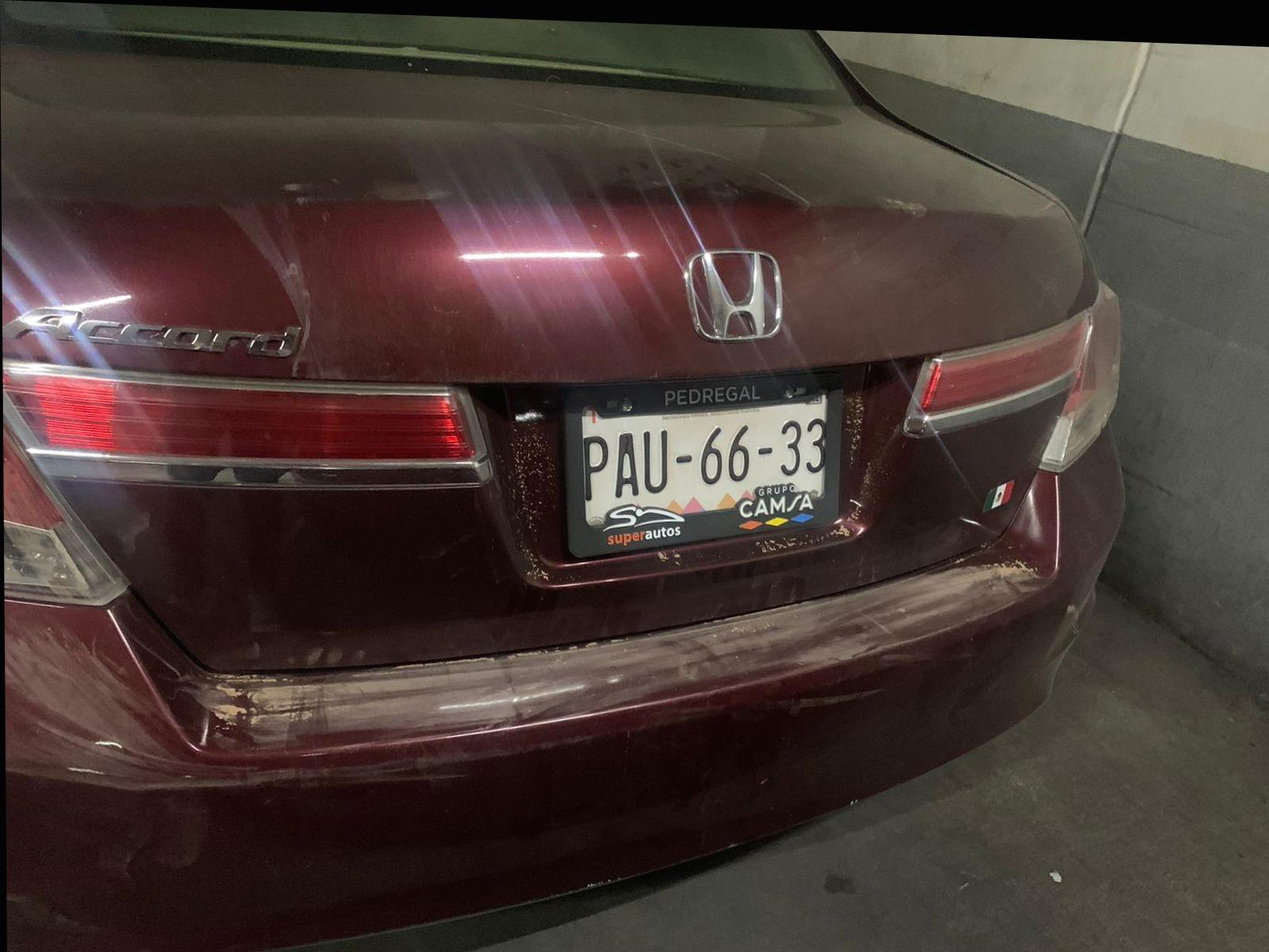License_Plate: (551, 361, 856, 579)
